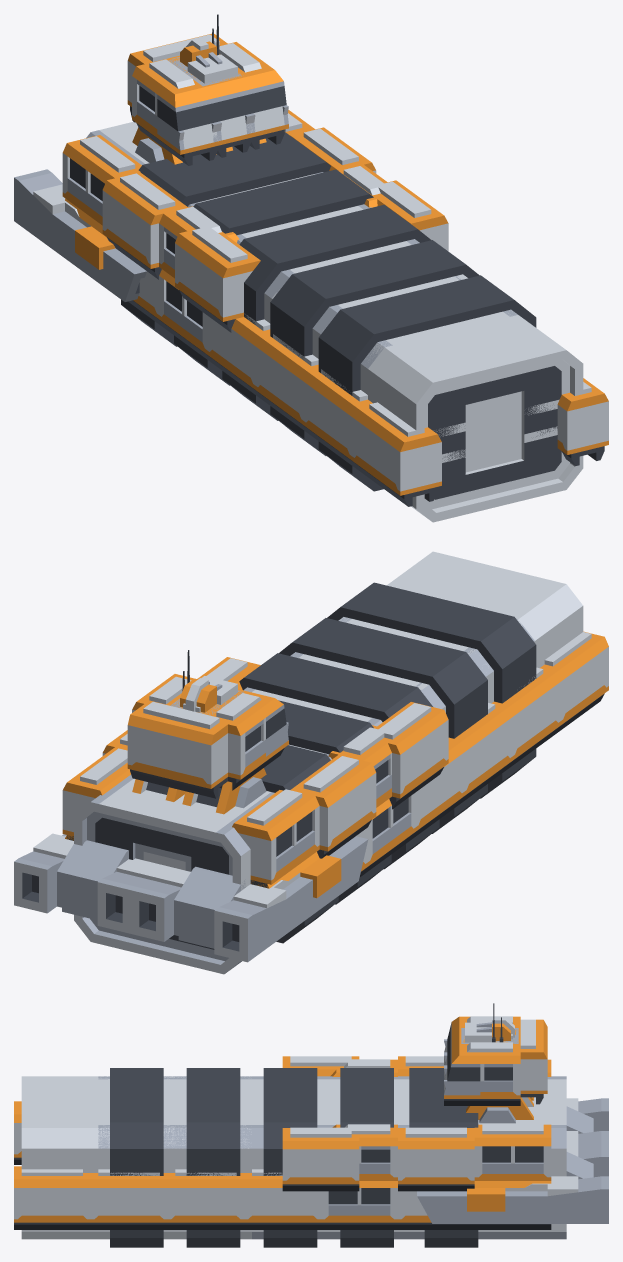
Rendered from cargo_moyen_2.glb.
3 views of the same model, one above another, from view 1: azimuth 30°, elevation 25°; view 2: azimuth 150°, elevation 25°; view 3: azimuth 270°, elevation 25° (orthographic). The views are drawn at different scales.
Visible parts, largest first — view 1: mergedBlocks(Clone); view 2: mergedBlocks(Clone); view 3: mergedBlocks(Clone).
Boxes of the visible parts, x1,y1,x2,y2 form: mergedBlocks(Clone): [14, 14, 608, 522]; mergedBlocks(Clone): [14, 551, 608, 974]; mergedBlocks(Clone): [14, 1003, 608, 1247].
Bounding box in the file's own units: 2.9 × 3.2 × 7.75.
1 material, 1 textured.
